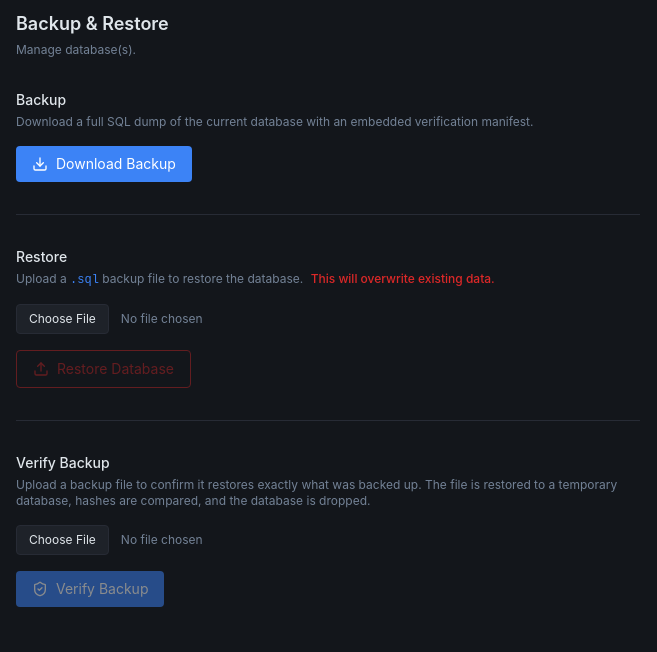
BackupRestorePage › shows success message after backup downloads
The width and height of the screenshot is (657, 652).
Step 1. Click the button "Download Backup" → {"x": 104, "y": 164}, box [16,146,192,182]
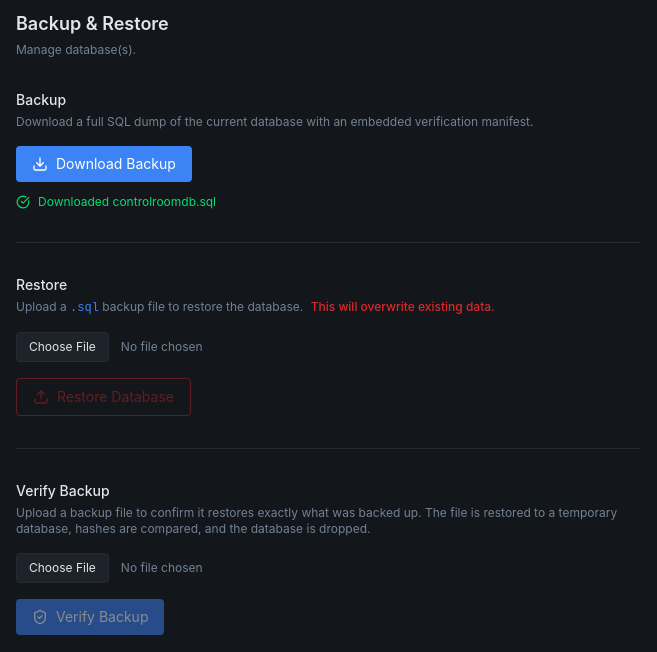
Result: the text "Downloaded controlroomdb.sql" is shown at [16,194,216,209]
